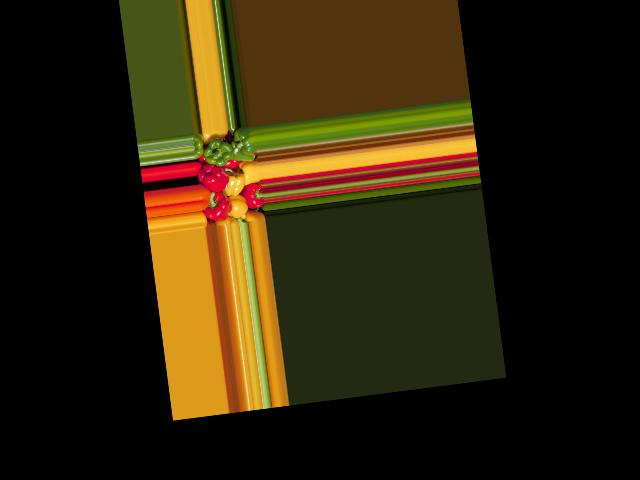bell_pepper: (190, 132, 208, 159)
